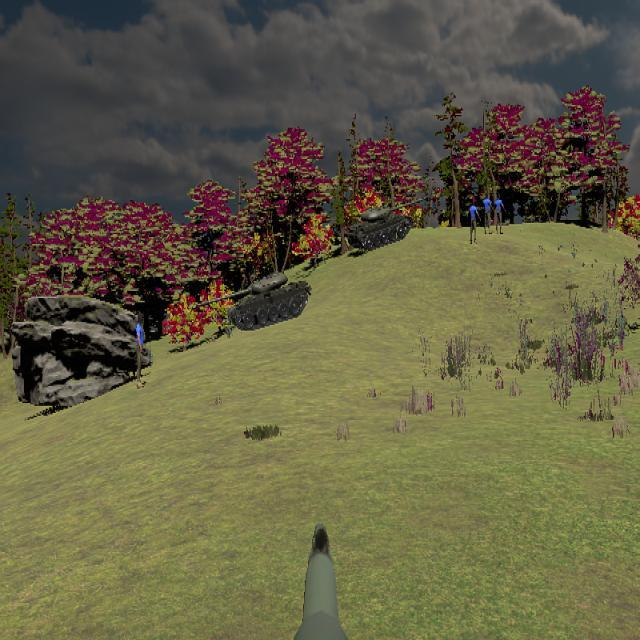Human: (467, 197, 481, 245), (492, 193, 506, 235), (481, 193, 494, 235)
Tank: (191, 271, 313, 332), (344, 197, 426, 252)
